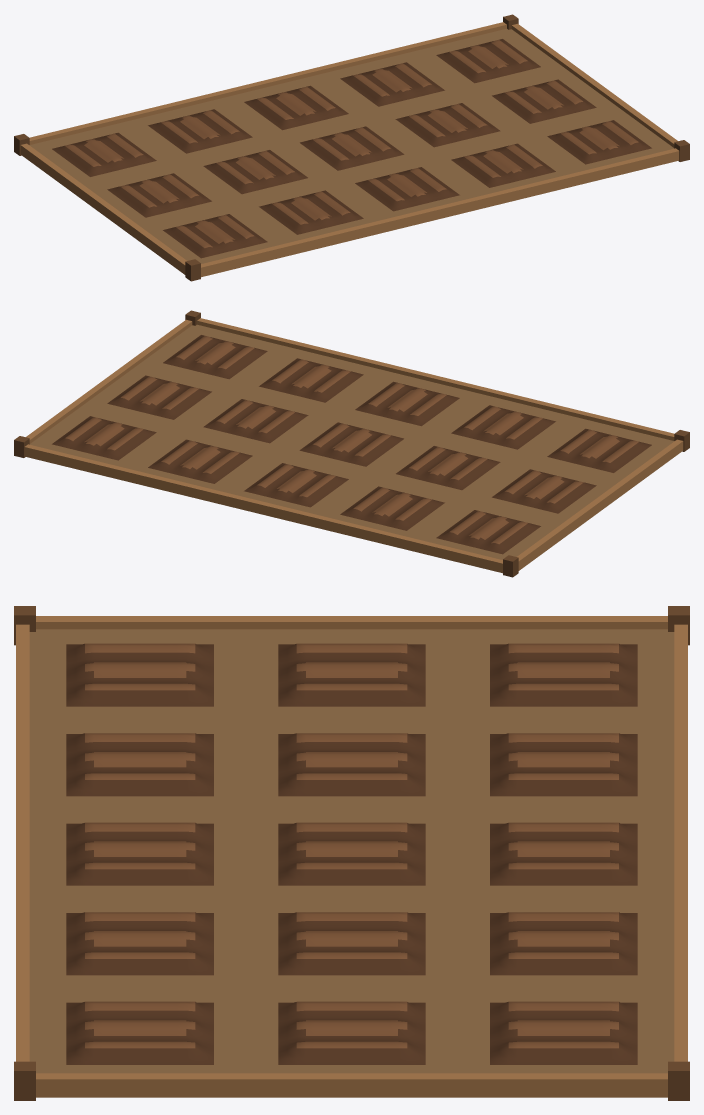
File: rival_garden.glb
3 views of the same model, one above another, from view 1: azimuth 30°, elevation 25°; view 2: azimuth 150°, elevation 25°; view 3: azimuth 270°, elevation 25° (orthographic). The views are drawn at different scales.
Visible parts, largest first — view 1: Rival_Garden; view 2: Rival_Garden; view 3: Rival_Garden.
Boxes of the visible parts, x1,y1,x2,y2 form: Rival_Garden: [14, 14, 689, 281]; Rival_Garden: [14, 310, 689, 577]; Rival_Garden: [14, 606, 689, 1100].
Bounding box in the file's own units: 11.94 × 0.36 × 7.34.
